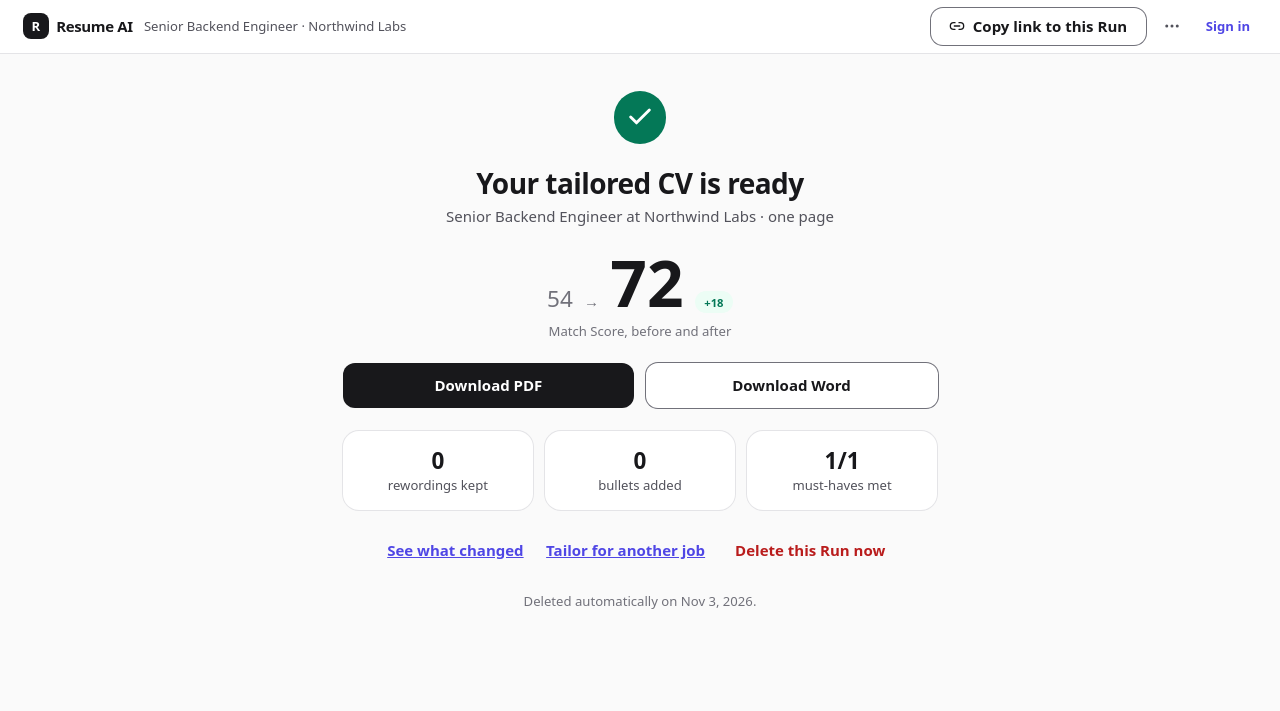
Test case: Done screen › 'Delete this Run now' confirms first, deletes, then goes to Upload
This screenshot has width=1280, height=711.
Click the button "Delete this Run now". click: (810, 551)
box: [728,532,893,570]
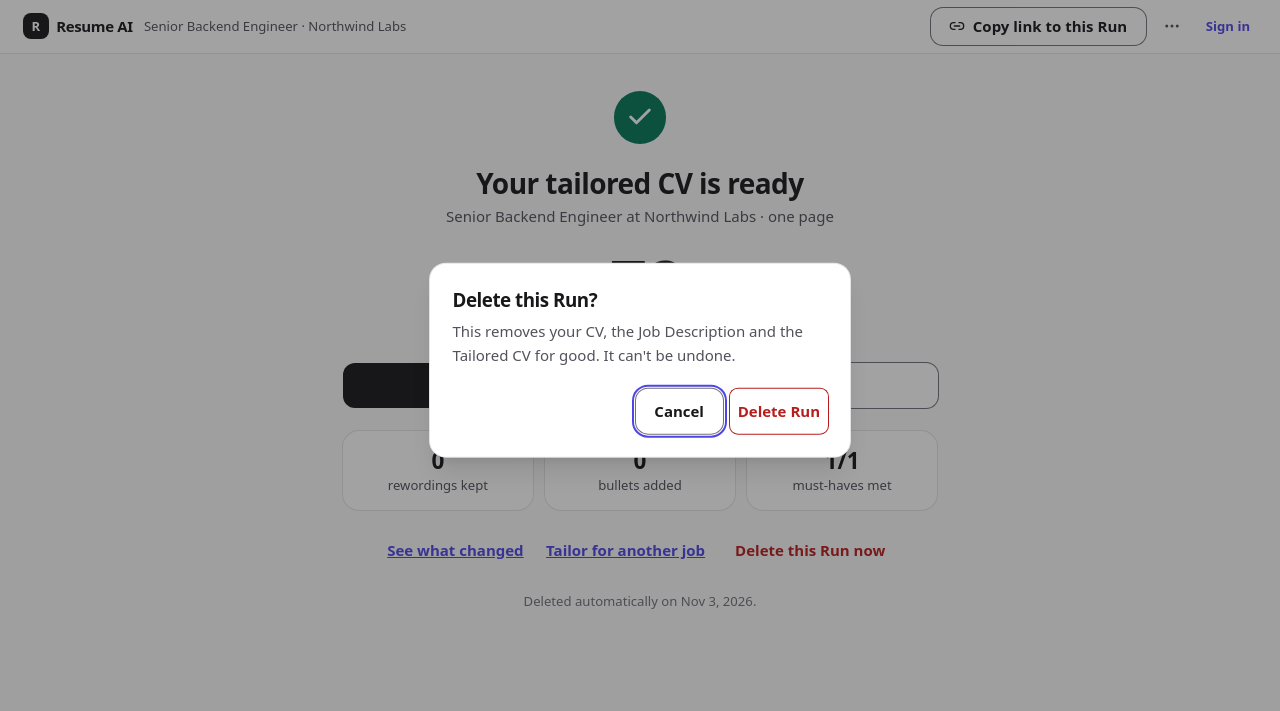
Check: the dialog "Delete this Run?" is shown, box [430,264,850,456]
Click the button "Delete Run". click: (779, 411)
box: [730,389,828,434]
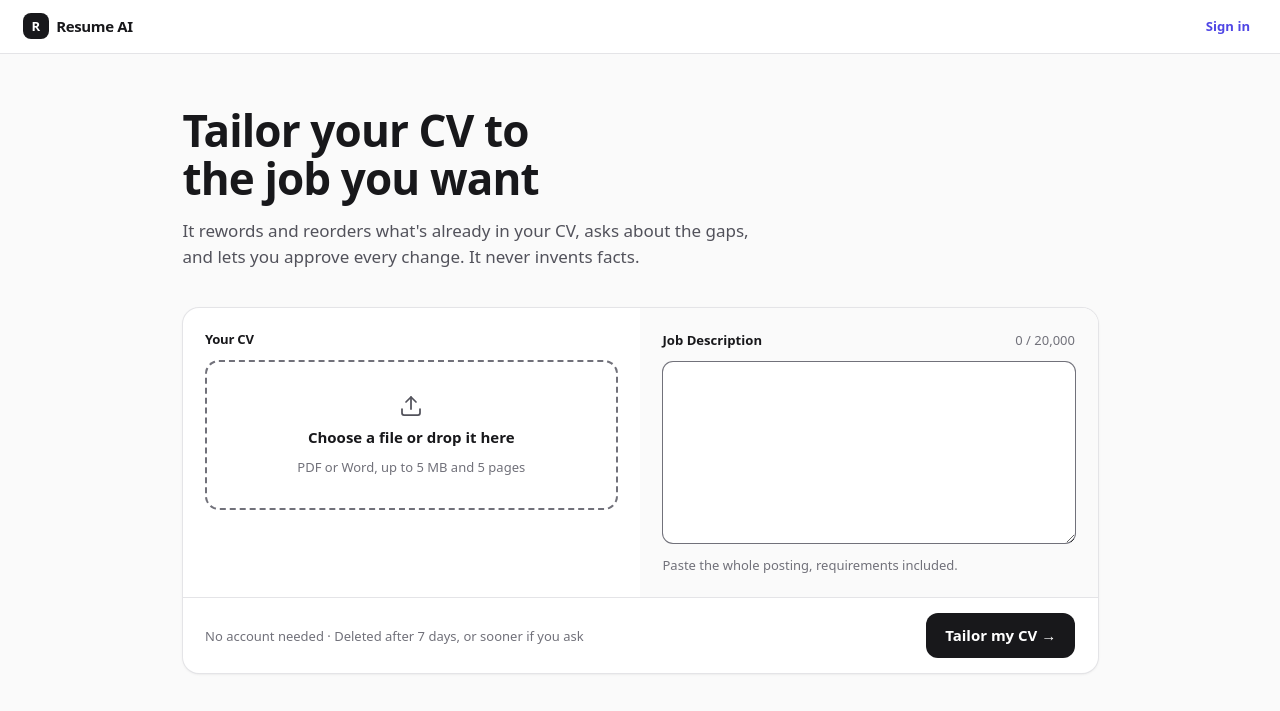
Check: the heading "Tailor your CV to the job you want" is shown, box [182,106,585,203]
